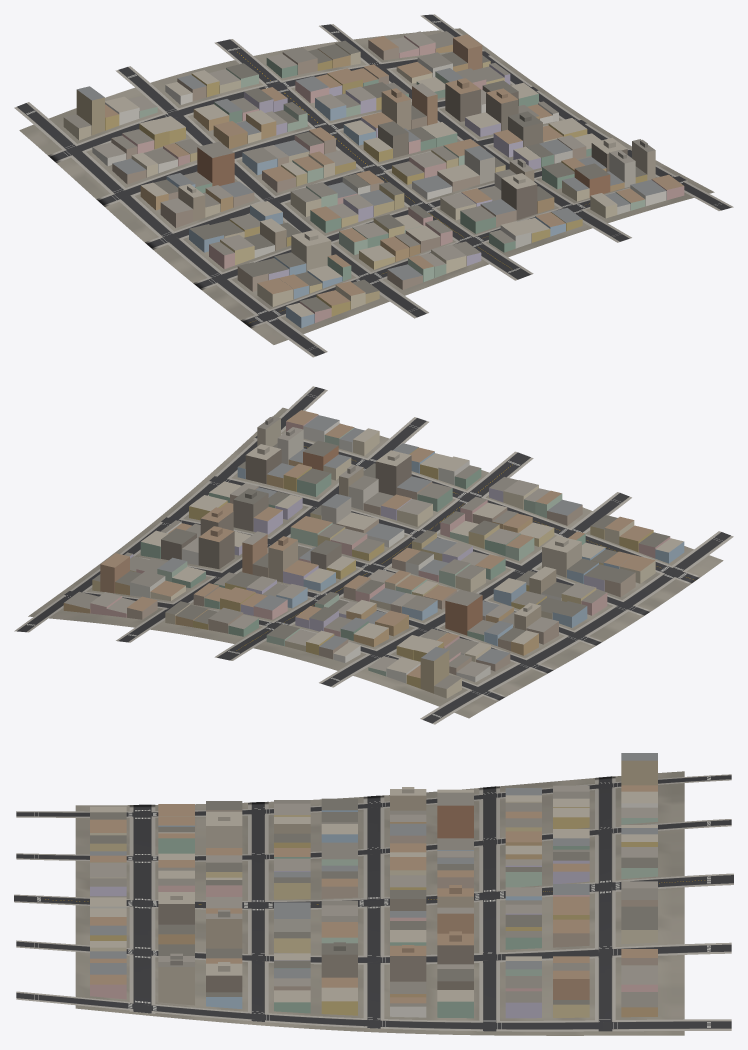
The picture shows the model from 3 angles, top to bottom: view 1: azimuth 30°, elevation 25°; view 2: azimuth 150°, elevation 25°; view 3: azimuth 270°, elevation 25°; orthographic projection. The views are drawn at different scales.
Visible parts, largest first — view 1: buildings, roads, ground; view 2: buildings, roads, ground; view 3: buildings, roads, ground.
Boxes of the visible parts, x1,y1,x2,y2 form: buildings: (63,31,684,328); roads: (14,14,733,357); ground: (19,28,714,344); buildings: (63,410,684,698); roads: (14,386,733,724); ground: (28,407,723,718); buildings: (90,753,657,1018); roads: (14,774,733,1031); ground: (75,771,684,1035).
Size of the model in its own units: 500 by 77.7 by 591.
